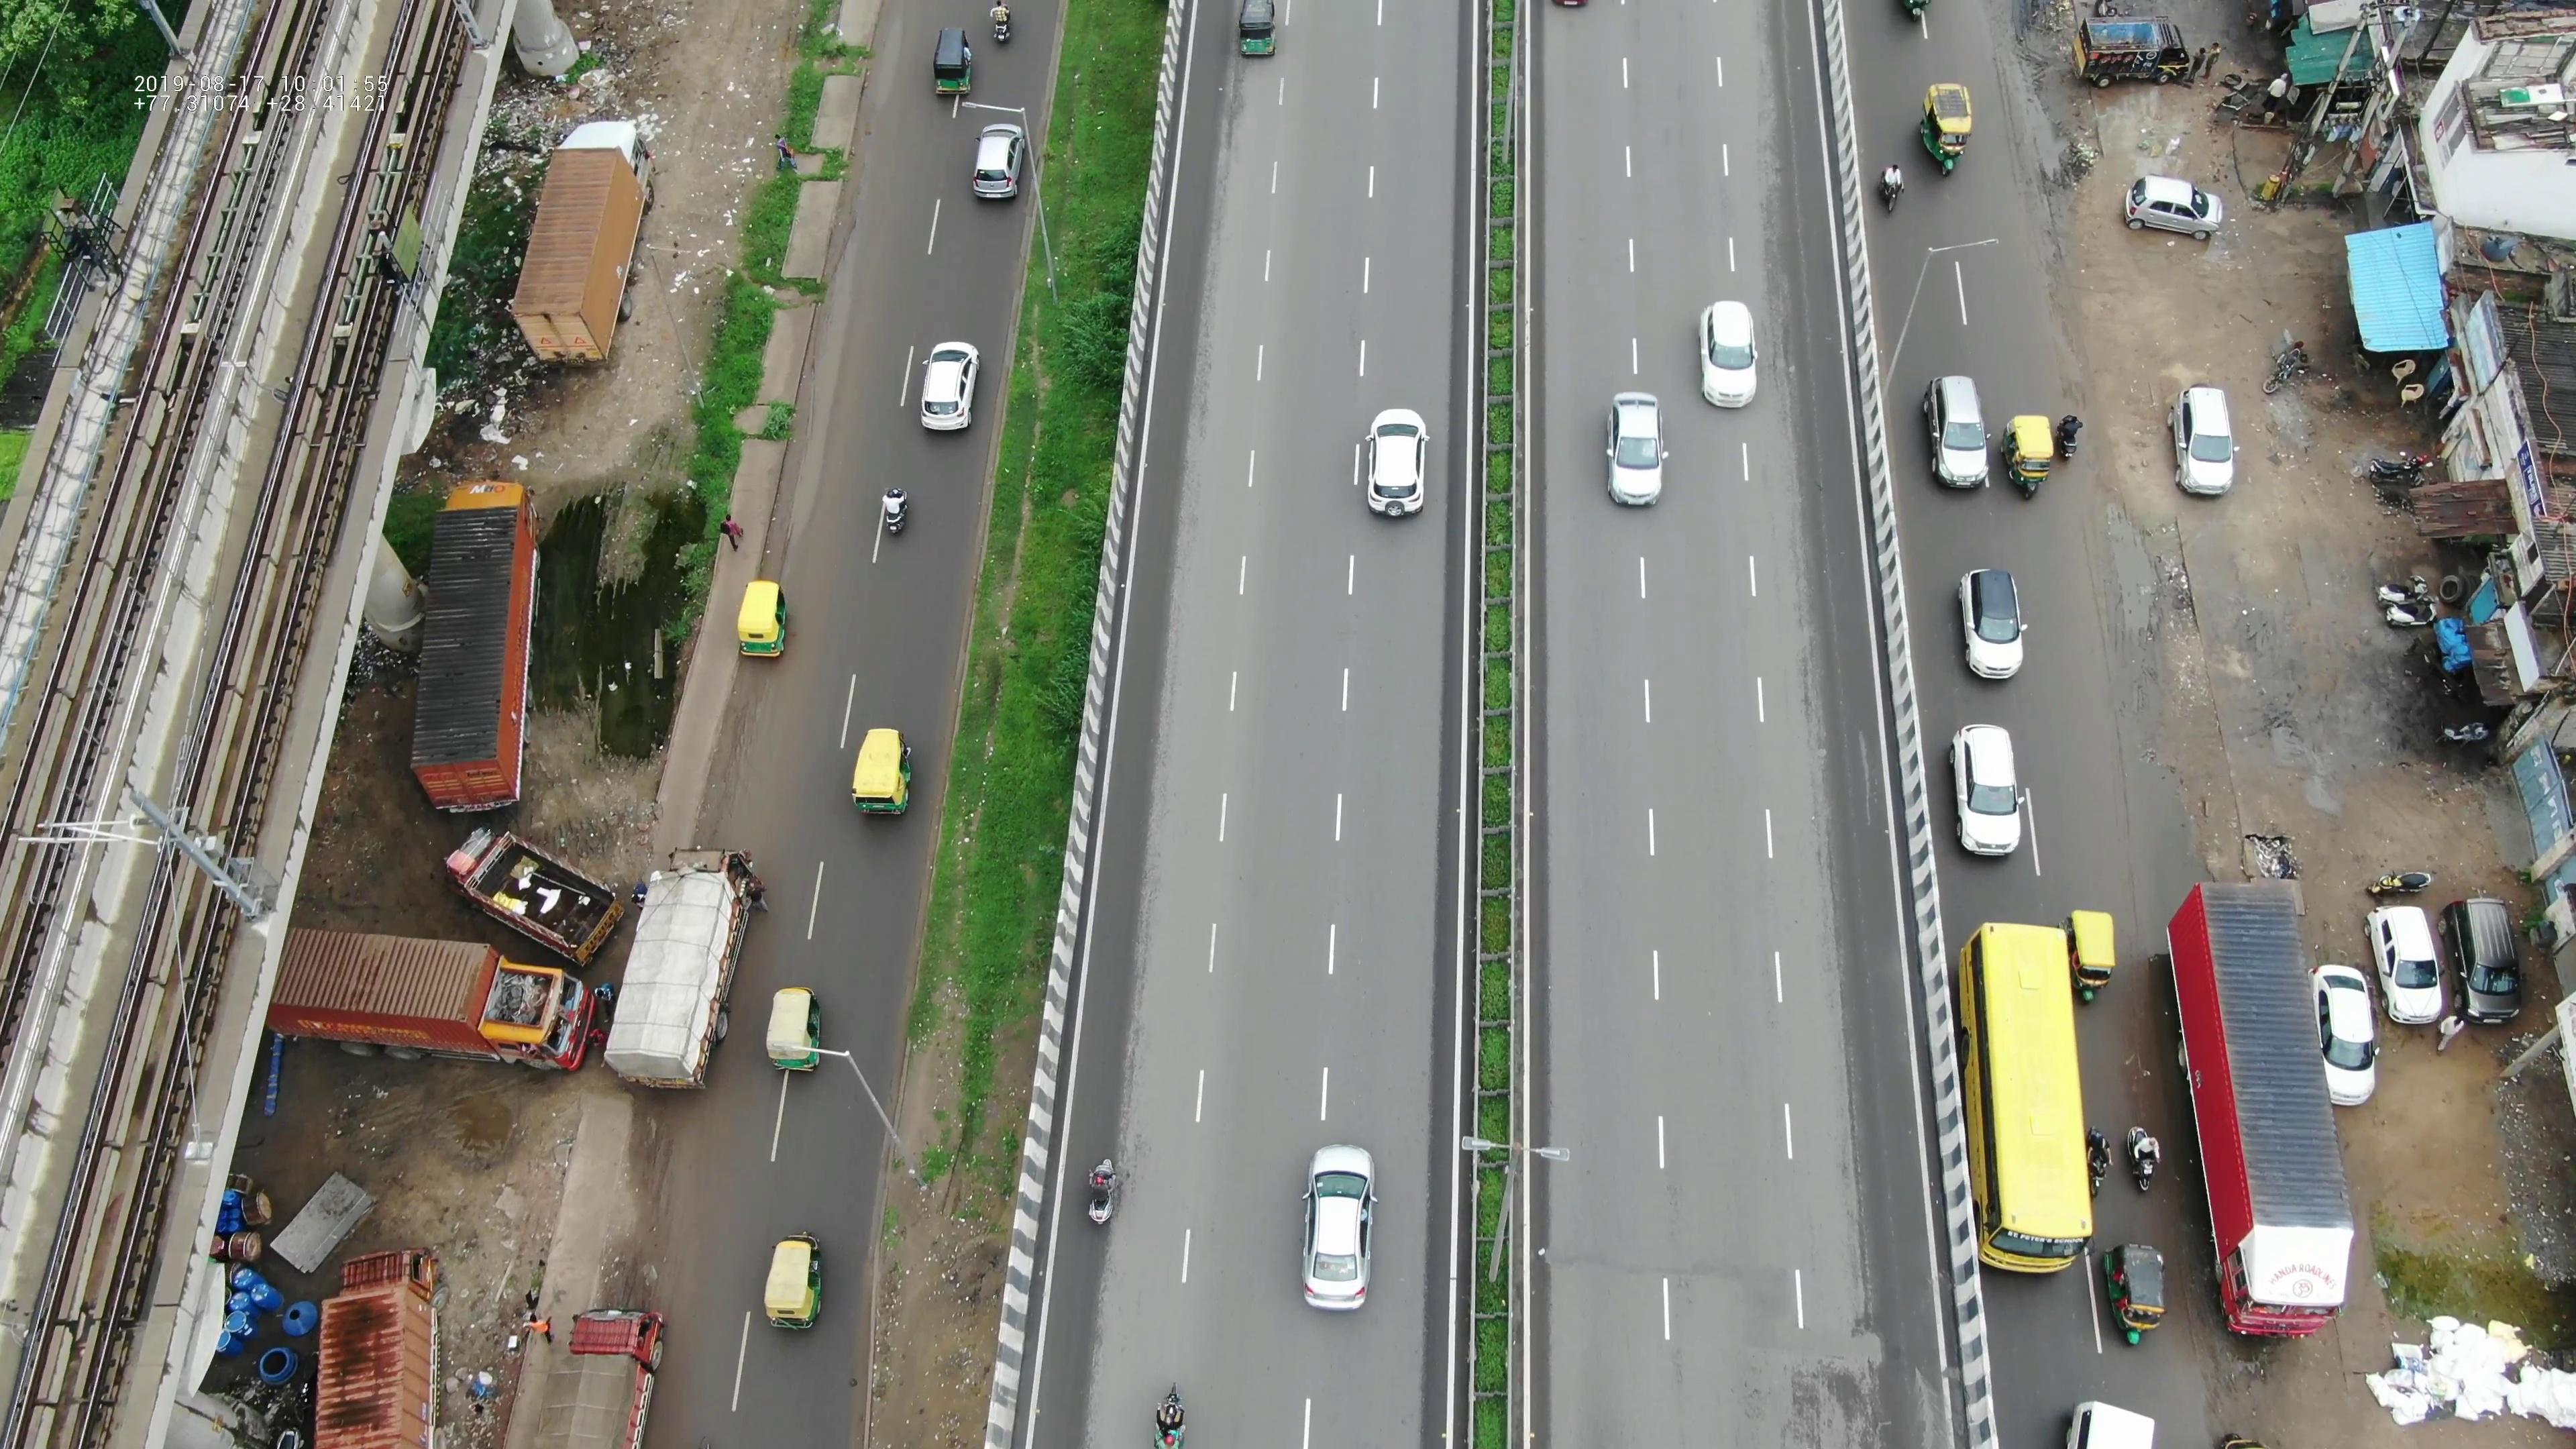Muddy_road: (2024, 202, 2098, 384)
Waterlogging: (2098, 508, 2173, 683), (778, 462, 835, 577)
